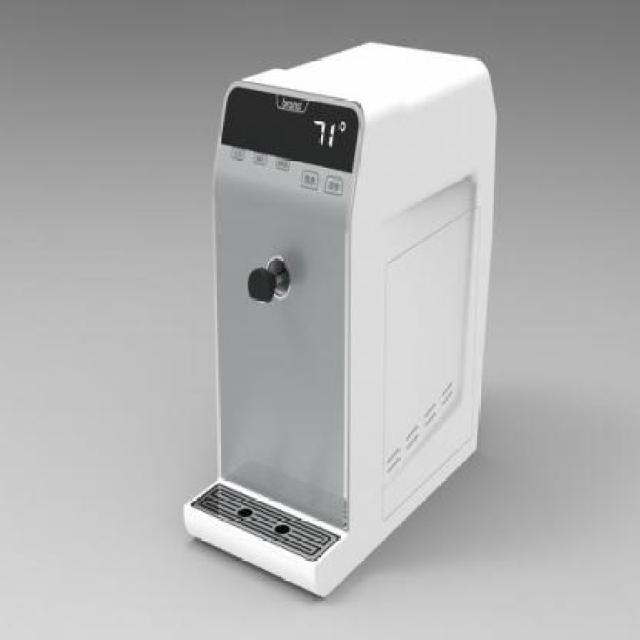cooler: (182, 37, 496, 604)
